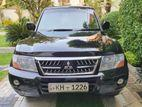car: (11, 6, 129, 101)
